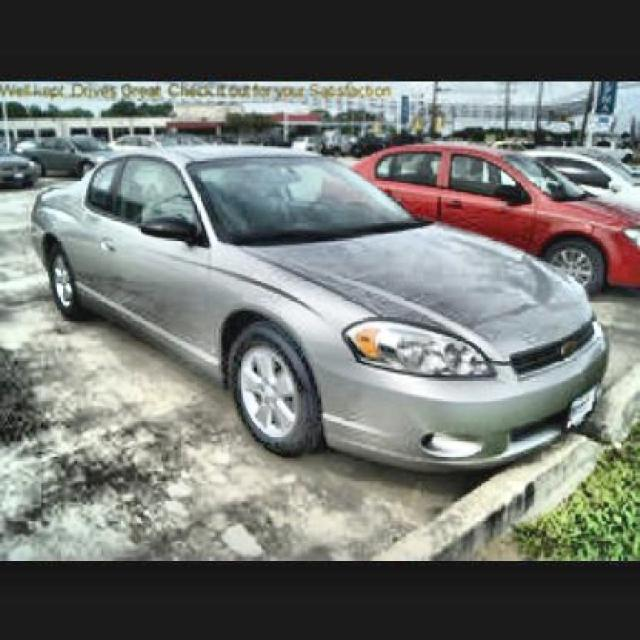red: (347, 143, 640, 290)
silver: (30, 142, 608, 473)
